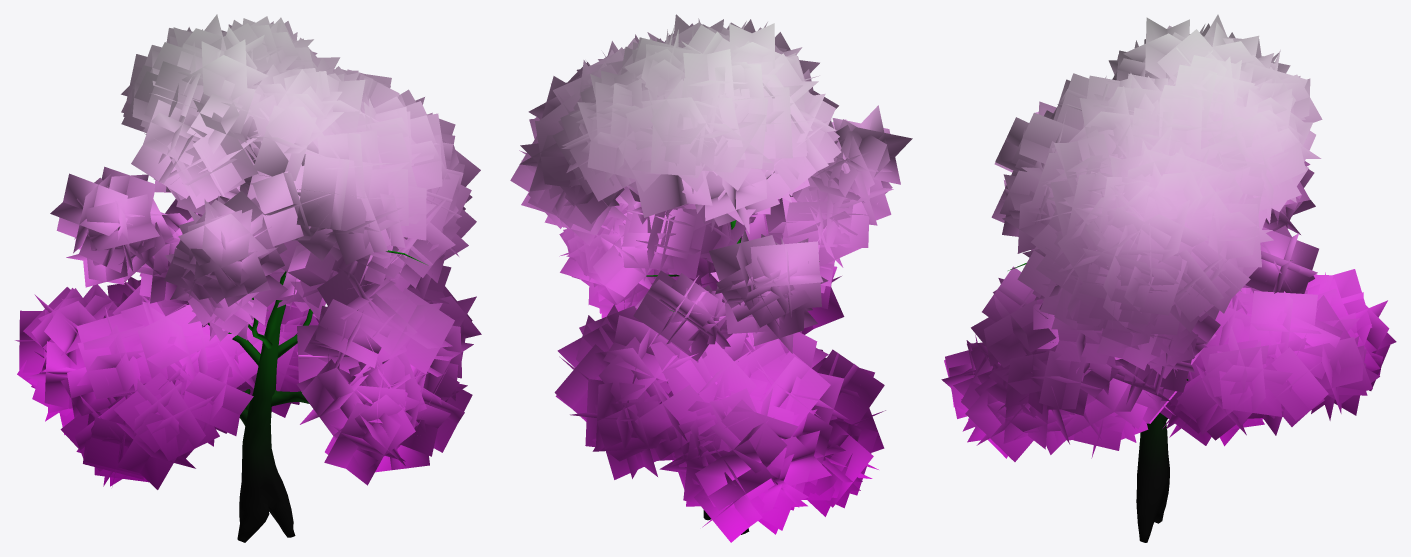
Rendered from TSI_Amberleaf_Tree_02A.fbx.
The picture shows the model from 3 angles, left to right: view 1: azimuth 30°, elevation 25°; view 2: azimuth 150°, elevation 25°; view 3: azimuth 270°, elevation 25°; orthographic projection. The views are drawn at different scales.
Parts seen in each view (by area): view 1: TSI_Amberleaf_Tree_02A_LOD0; view 2: TSI_Amberleaf_Tree_02A_LOD0; view 3: TSI_Amberleaf_Tree_02A_LOD0.
Boxes of the visible parts, <box> form: TSI_Amberleaf_Tree_02A_LOD0: <box>15,14,481,542</box>; TSI_Amberleaf_Tree_02A_LOD0: <box>510,14,912,542</box>; TSI_Amberleaf_Tree_02A_LOD0: <box>941,14,1396,542</box>.
Size of what is drawn, in the model's own units: 1026 by 1371 by 1141.
